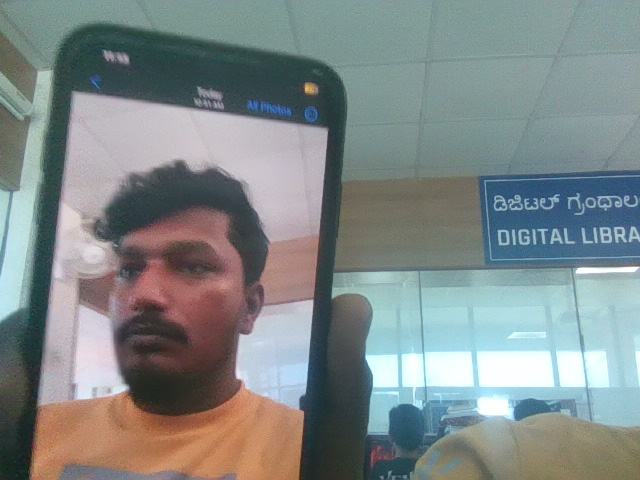fake: (86, 142, 269, 402)
